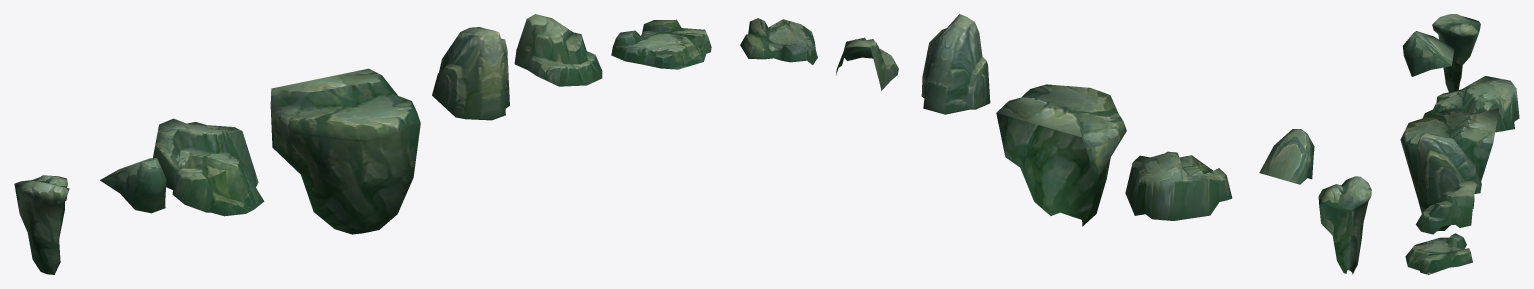
File: shilianzhidi_shitou_001_001.FBX
The picture shows the model from 3 angles, left to right: view 1: azimuth 30°, elevation 25°; view 2: azimuth 150°, elevation 25°; view 3: azimuth 270°, elevation 25°; orthographic projection. The views are drawn at different scales.
Parts seen in each view (by area): view 1: shilianzhidi_shitou_001_003, shilianzhidi_shitou_001_004, shilianzhidi_shitou_001_001, shilianzhidi_shitou_001_002, shilianzhidi_shitou_001_000, shilianzhidi_shitou_001_006, shilianzhidi_shitou_001_005; view 2: shilianzhidi_shitou_001_003, shilianzhidi_shitou_001_004, shilianzhidi_shitou_001_001, shilianzhidi_shitou_001_000, shilianzhidi_shitou_001_006, shilianzhidi_shitou_001_005, shilianzhidi_shitou_001_002; view 3: shilianzhidi_shitou_001_003, shilianzhidi_shitou_001_001, shilianzhidi_shitou_001_004, shilianzhidi_shitou_001_000, shilianzhidi_shitou_001_002, shilianzhidi_shitou_001_006, shilianzhidi_shitou_001_005.
Boxes of the visible parts, x1,y1,x2,y2 form: shilianzhidi_shitou_001_003: (270, 68, 420, 234); shilianzhidi_shitou_001_004: (153, 118, 264, 216); shilianzhidi_shitou_001_001: (432, 27, 509, 120); shilianzhidi_shitou_001_002: (514, 14, 602, 86); shilianzhidi_shitou_001_000: (14, 175, 69, 274); shilianzhidi_shitou_001_006: (611, 19, 711, 69); shilianzhidi_shitou_001_005: (100, 158, 166, 213); shilianzhidi_shitou_001_003: (996, 84, 1126, 226); shilianzhidi_shitou_001_004: (1125, 151, 1232, 220); shilianzhidi_shitou_001_001: (921, 14, 990, 114); shilianzhidi_shitou_001_000: (1318, 176, 1371, 274); shilianzhidi_shitou_001_006: (740, 18, 817, 64); shilianzhidi_shitou_001_005: (1259, 129, 1314, 184); shilianzhidi_shitou_001_002: (836, 37, 898, 90); shilianzhidi_shitou_001_003: (1400, 108, 1499, 231); shilianzhidi_shitou_001_001: (1417, 133, 1481, 205); shilianzhidi_shitou_001_004: (1423, 76, 1519, 132); shilianzhidi_shitou_001_000: (1432, 14, 1480, 92); shilianzhidi_shitou_001_002: (1416, 180, 1476, 234); shilianzhidi_shitou_001_006: (1405, 233, 1472, 274); shilianzhidi_shitou_001_005: (1402, 31, 1454, 76).
Size of the model in its own units: 5797 by 1146 by 1465.
Materials: 1 (1 with a texture image).
